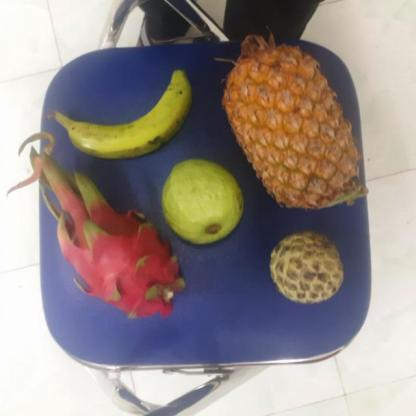annona: (267, 233, 345, 305)
banana: (67, 67, 196, 161)
guava: (156, 160, 244, 245)
pineapple: (219, 38, 361, 208)
pitaya: (58, 209, 181, 320)
